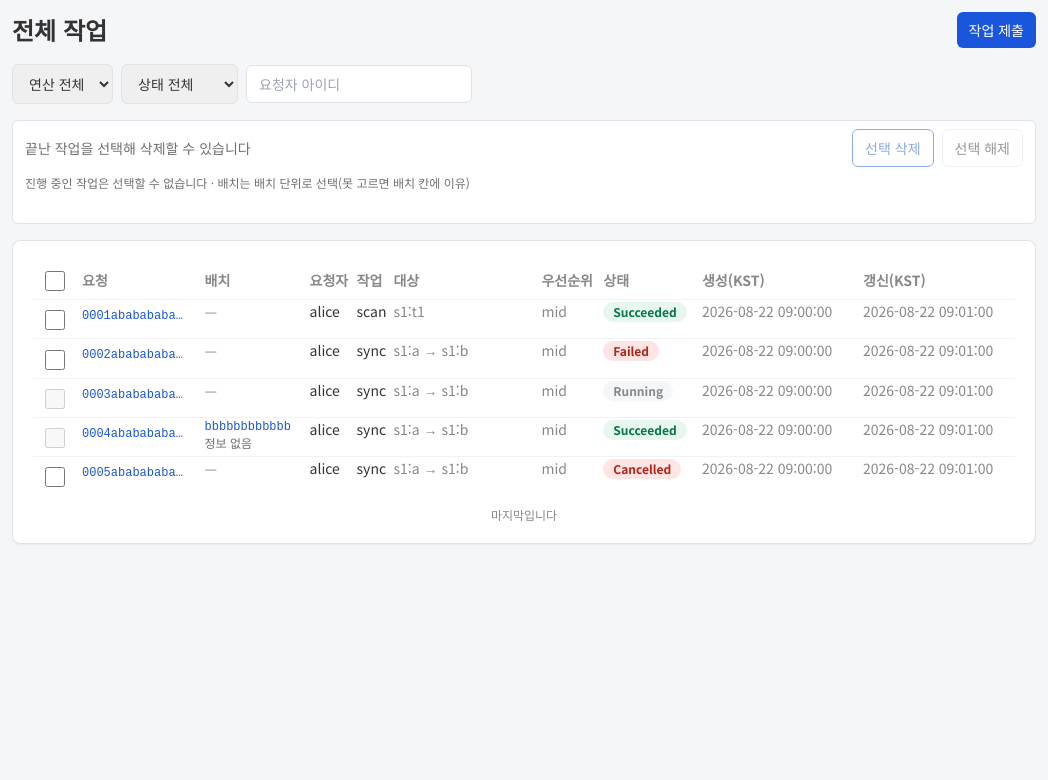
Test case: 필터를 바꾸면 선택이 비워진다(안 보이는 행을 지우는 사고 방지)
The image size is (1048, 780).
Click the 3rd checkbox at {"x": 55, "y": 360}, box [45,350,65,370]
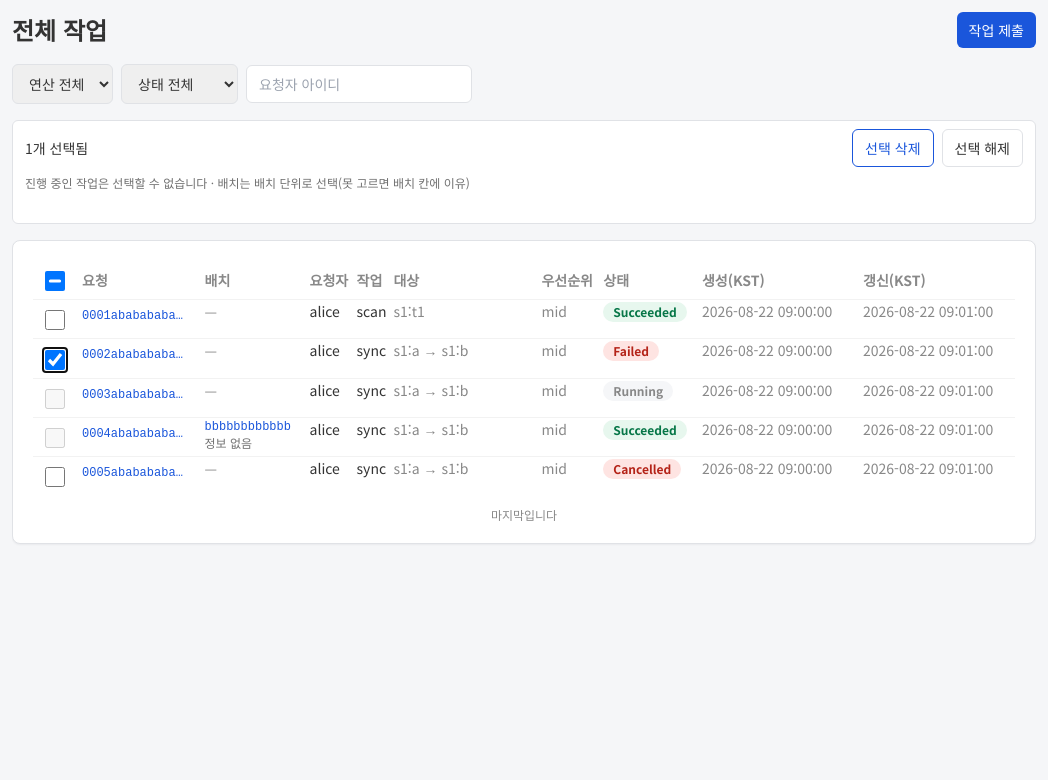
Check: the element named "작업 일괄 처리" shows "1개 선택됨", box [25,138,88,158]
Select "sync" in the dropdown named "연산 필터" at {"x": 62, "y": 84}, box [12,64,113,104]
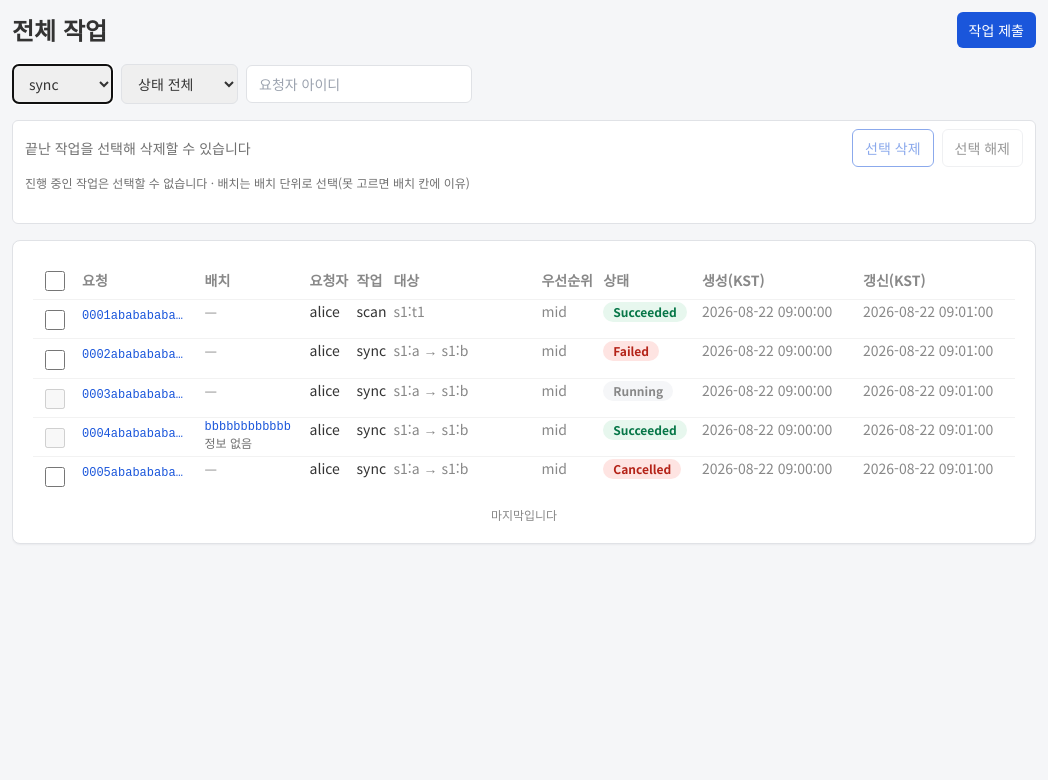
Check: the element named "작업 일괄 처리" shows "끝난 작업을 선택해 삭제할 수 있습니다", box [25,138,251,158]
